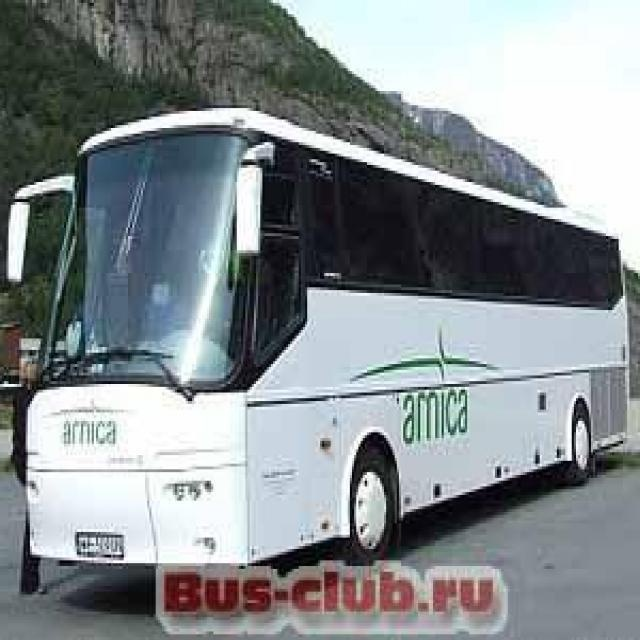bus: (2, 87, 633, 605)
